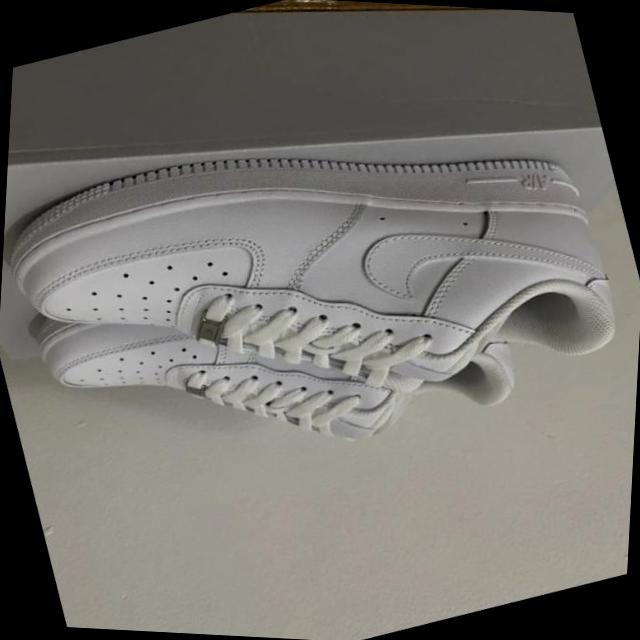nike_original_airforce: (0, 25, 640, 511), (17, 183, 532, 534)
